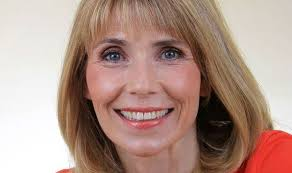puffy eyes: (94, 62, 129, 70), (159, 61, 187, 68)
wrinkles: (180, 96, 189, 127)
